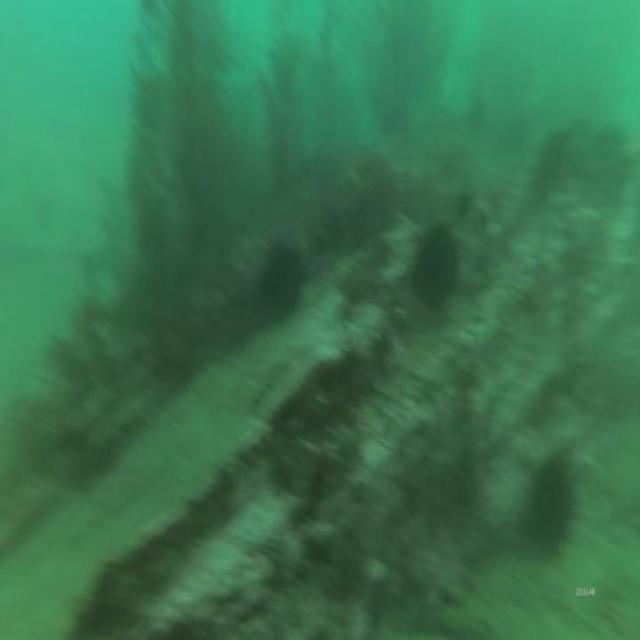echinus: (528, 443, 583, 564), (411, 220, 466, 318), (256, 235, 312, 322)
